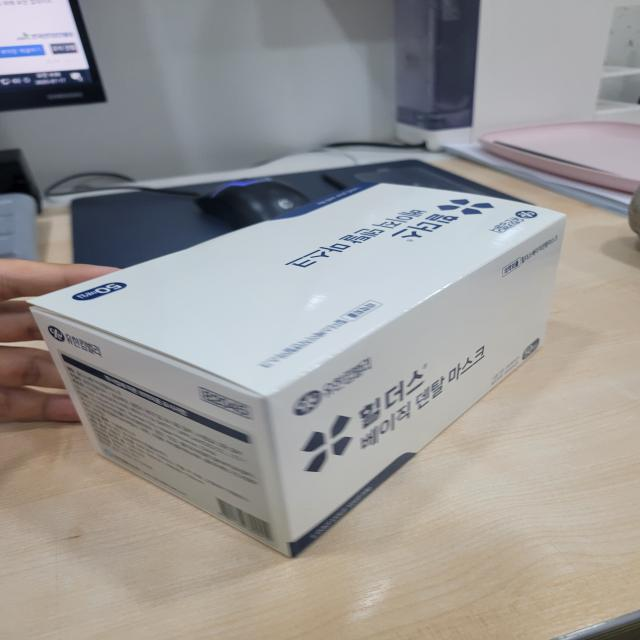mask: (0, 168, 582, 580)
